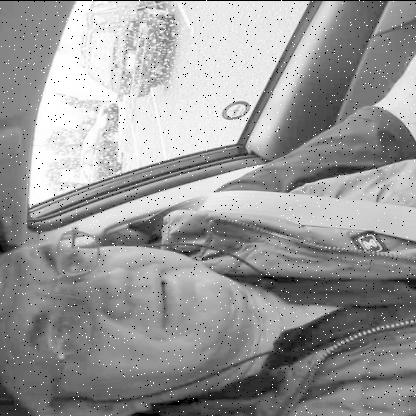seatbelt: (0, 186, 416, 416)
